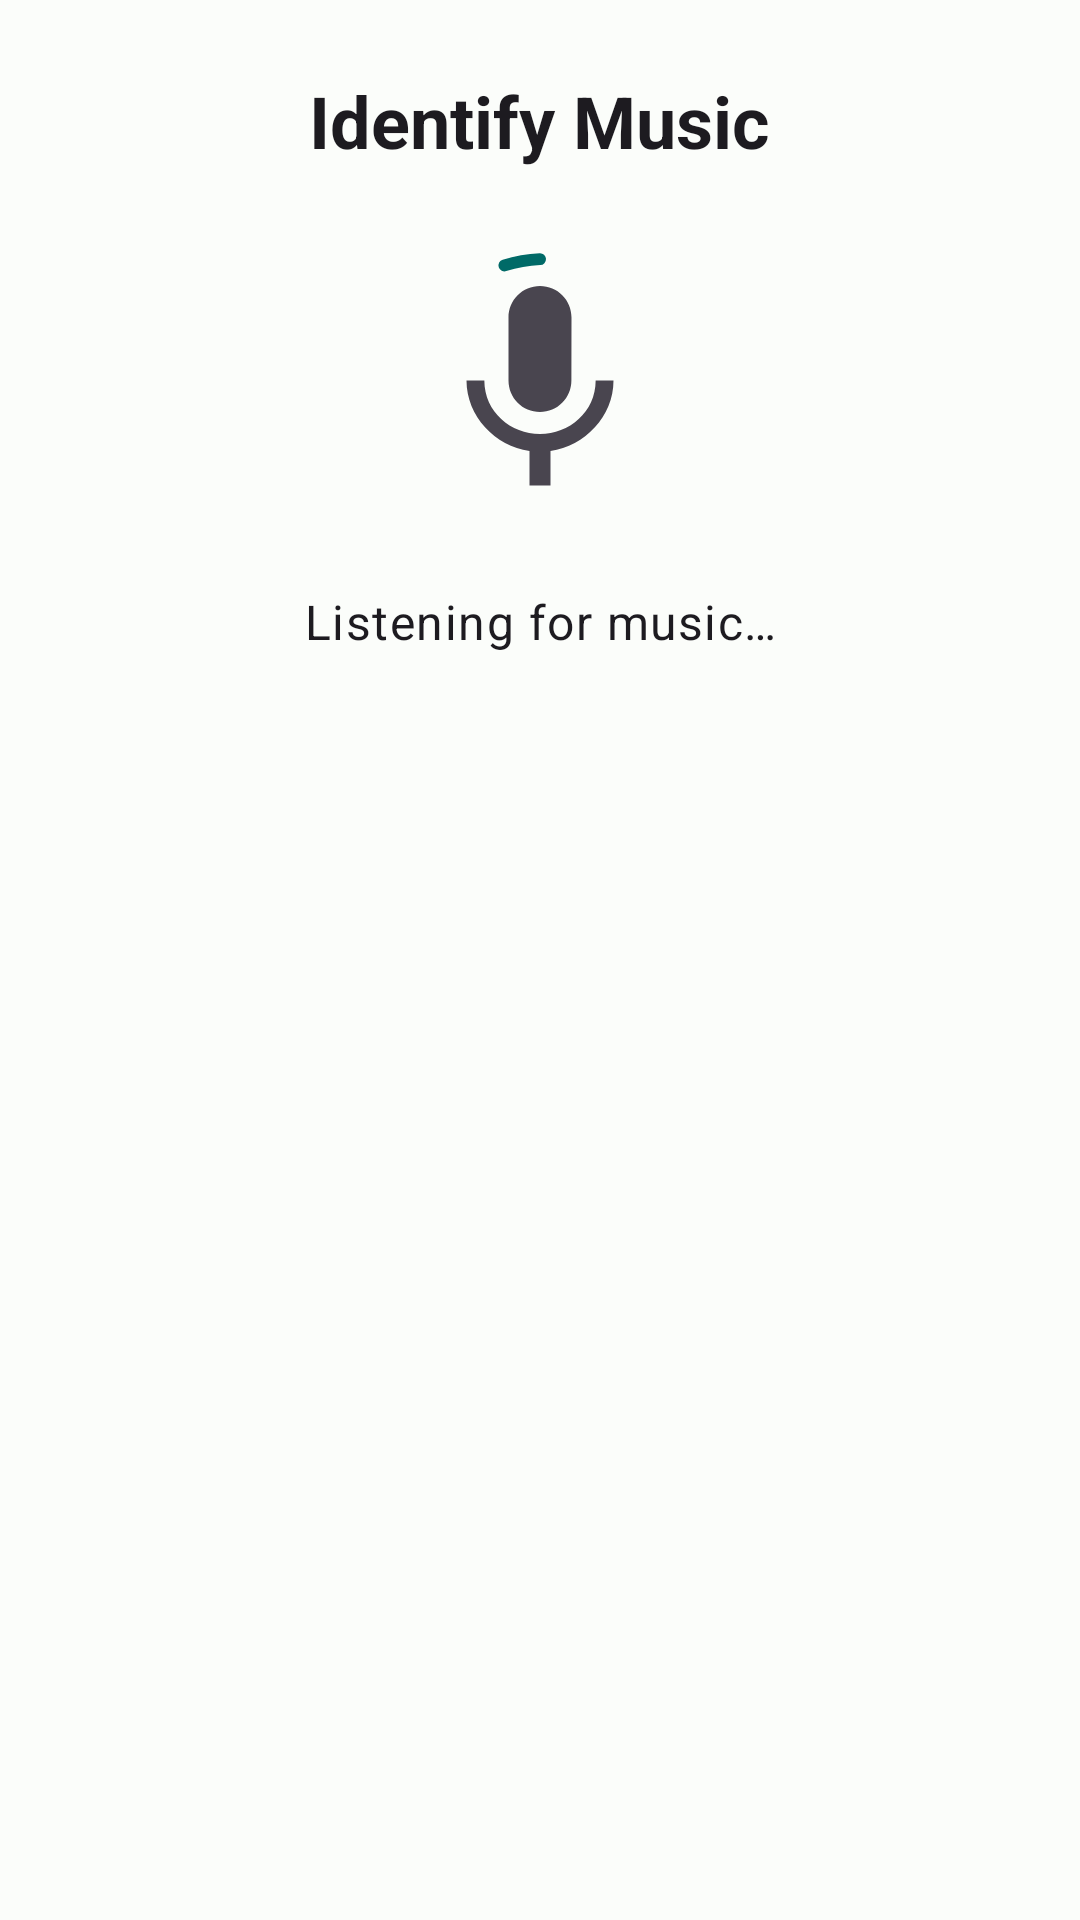

Point at icon controls on the screen. Image size 1080px x 1920px, points as [x,y].
mic: [540,386]
